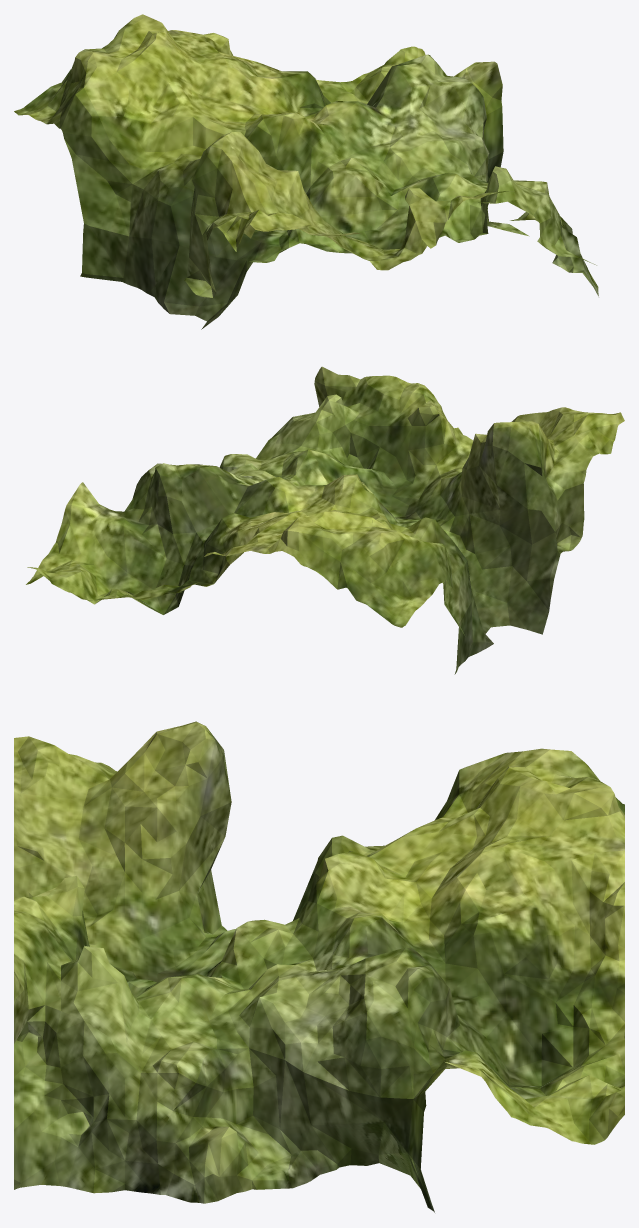
The picture shows the model from 3 angles, top to bottom: view 1: azimuth 30°, elevation 25°; view 2: azimuth 150°, elevation 25°; view 3: azimuth 270°, elevation 25°; orthographic projection. The views are drawn at different scales.
Bounding box in the file's own units: 2.95 × 1.39 × 2.95.
Materials: 4 (4 with a texture image).
